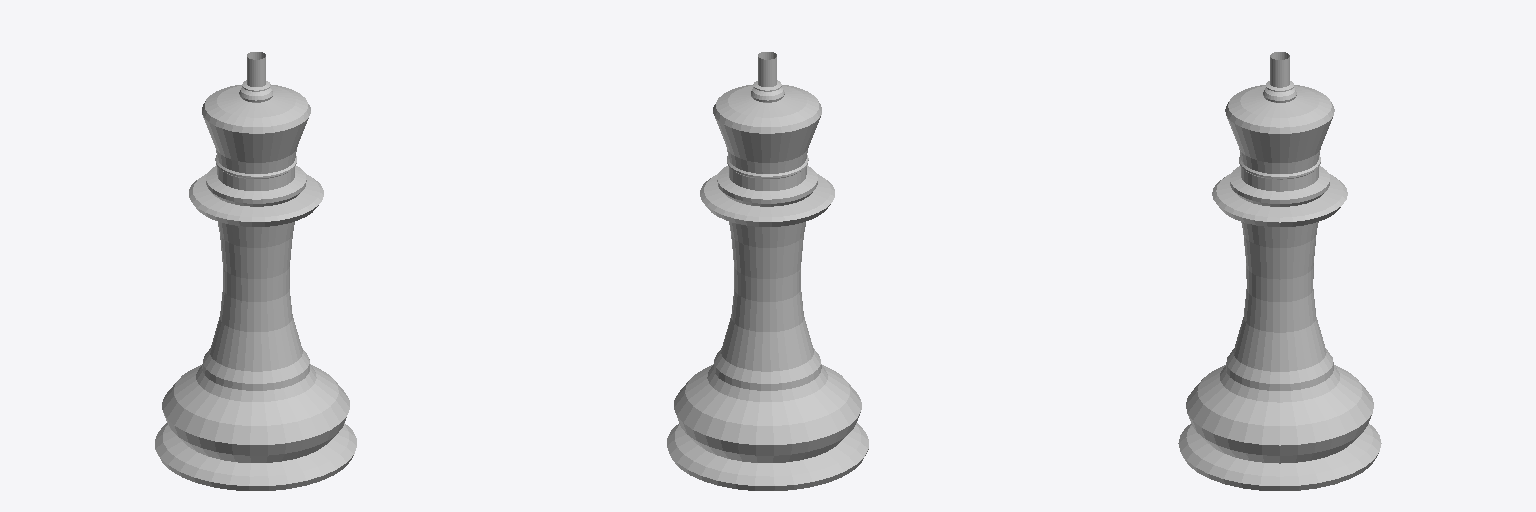
The model's file is krol.obj.
3 views of the same model, side by side, from view 1: azimuth 30°, elevation 25°; view 2: azimuth 150°, elevation 25°; view 3: azimuth 270°, elevation 25° (orthographic).
Visible parts, largest first — view 1: Circle_Circle.002; view 2: Circle_Circle.002; view 3: Circle_Circle.002.
Part boxes in pixels (x1,y1,x2,y2): Circle_Circle.002: (155, 52, 356, 490); Circle_Circle.002: (667, 52, 868, 490); Circle_Circle.002: (1178, 52, 1381, 490).
Bounding box in the file's own units: 1.77 × 3.85 × 1.77.